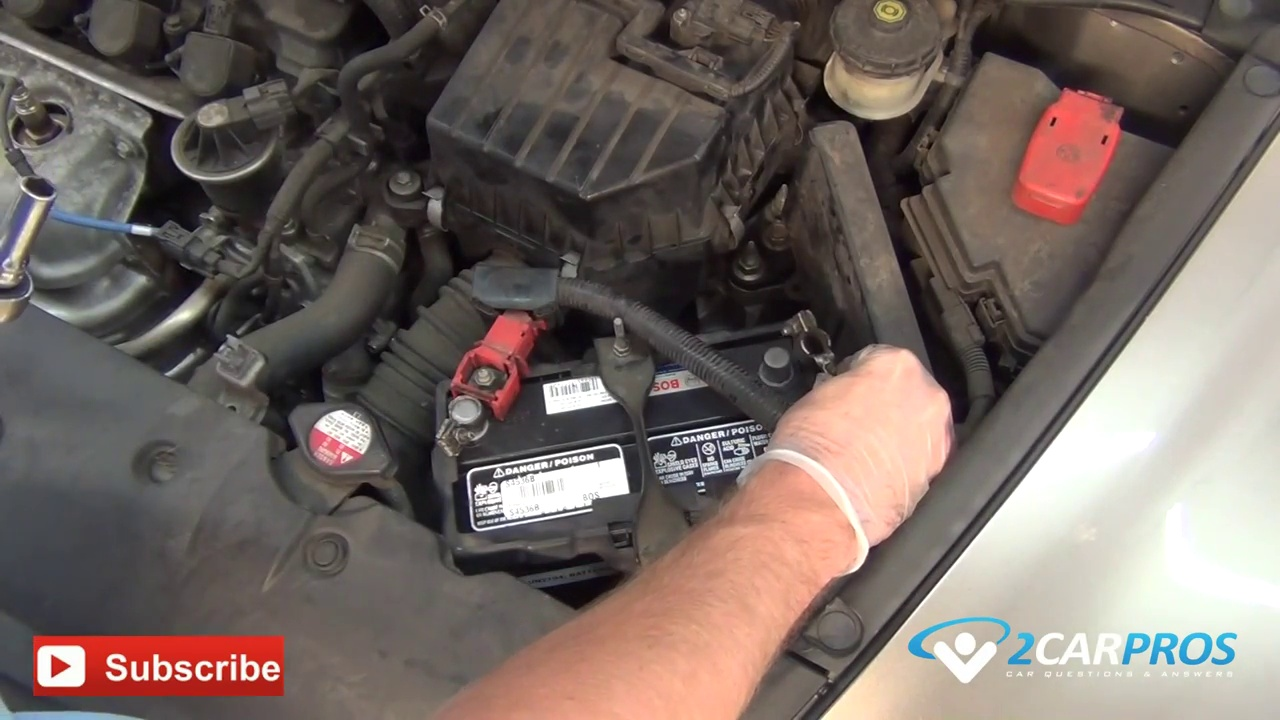battery: (428, 295, 878, 583)
neg_disconnected: (735, 290, 851, 407)
neg_touched: (739, 296, 929, 449)
pos_connected: (436, 290, 541, 464)
